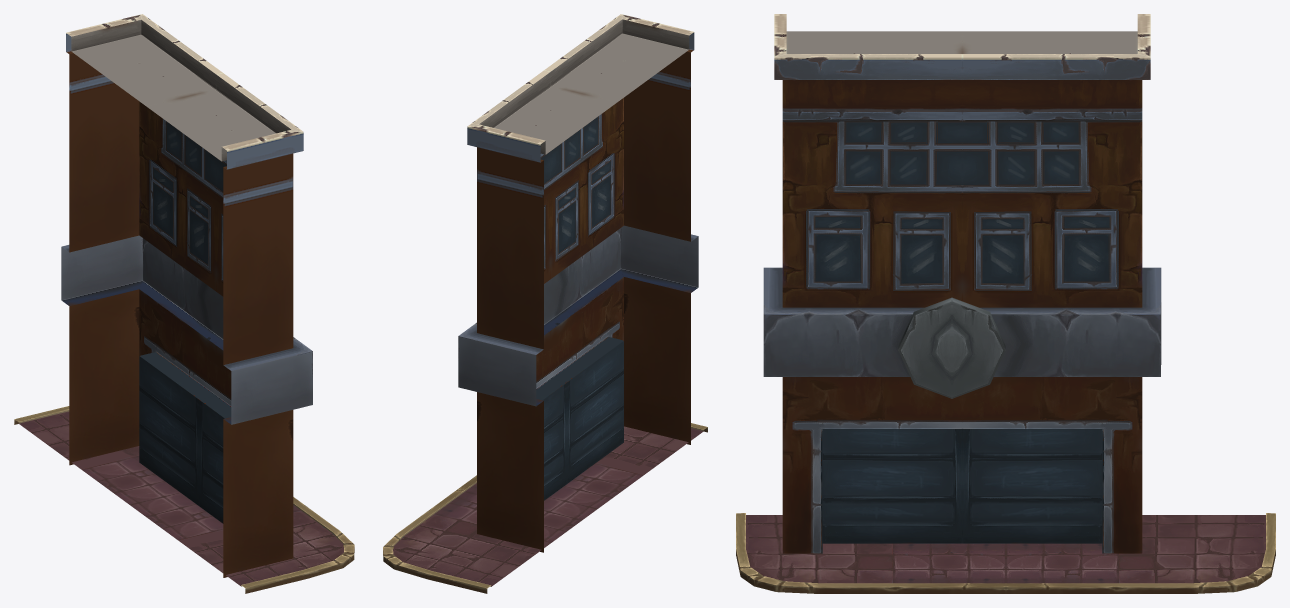
3 views of the same model, side by side, from view 1: azimuth 30°, elevation 25°; view 2: azimuth 150°, elevation 25°; view 3: azimuth 270°, elevation 25° (orthographic). The views are drawn at different scales.
Parts seen in each view (by area): view 1: wj_fz01; view 2: wj_fz01; view 3: wj_fz01.
Part boxes in pixels (<box>): wj_fz01: <box>14,14,354,593</box>; wj_fz01: <box>383,14,707,593</box>; wj_fz01: <box>736,14,1275,593</box>.
Size of the model in its own units: 870 by 2638 by 2722.
